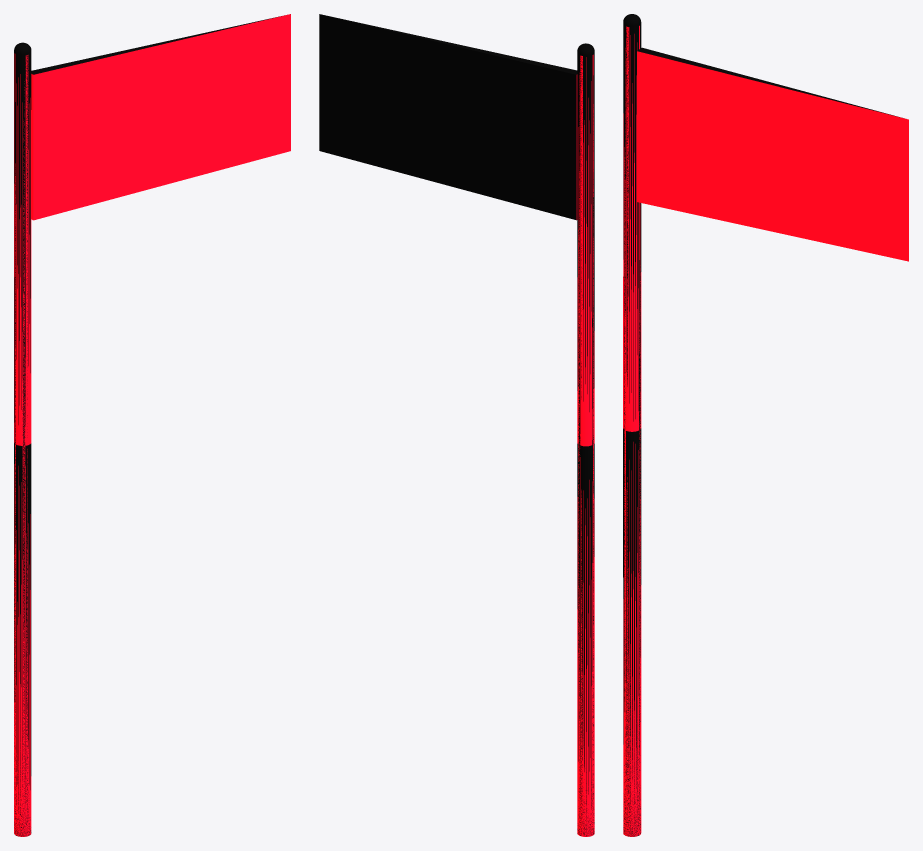
The model's file is flag.dae.
3 views of the same model, side by side, from view 1: azimuth 30°, elevation 25°; view 2: azimuth 150°, elevation 25°; view 3: azimuth 330°, elevation 25° (orthographic). The views are drawn at different scales.
Parts seen in each view (by area): view 1: Body1, Body1.001; view 2: Body1, Body1.001; view 3: Body1, Body1.001.
Boxes of the visible parts, <box> form: Body1: <box>14,14,290,836</box>; Body1.001: <box>14,42,31,836</box>; Body1: <box>319,14,594,836</box>; Body1.001: <box>577,43,594,836</box>; Body1: <box>623,25,908,836</box>; Body1.001: <box>623,14,641,836</box>.
Size of the model in its own units: 0.5471 by 0.03 by 1.5.
